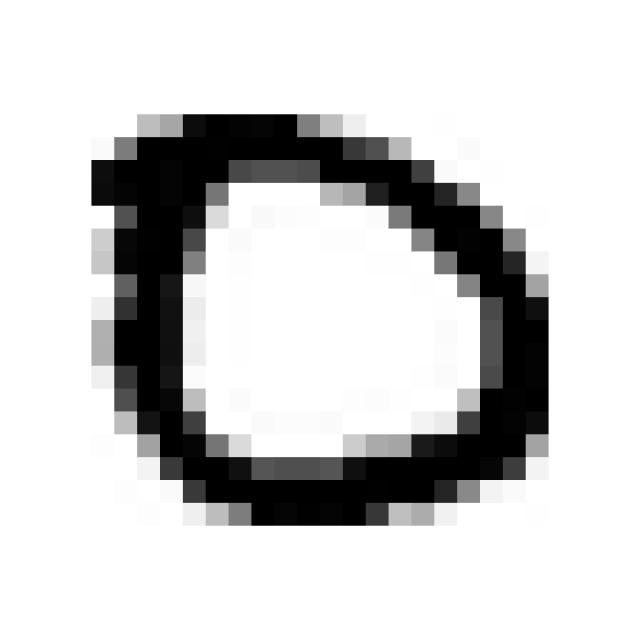5 -five-: (66, 94, 567, 542)
